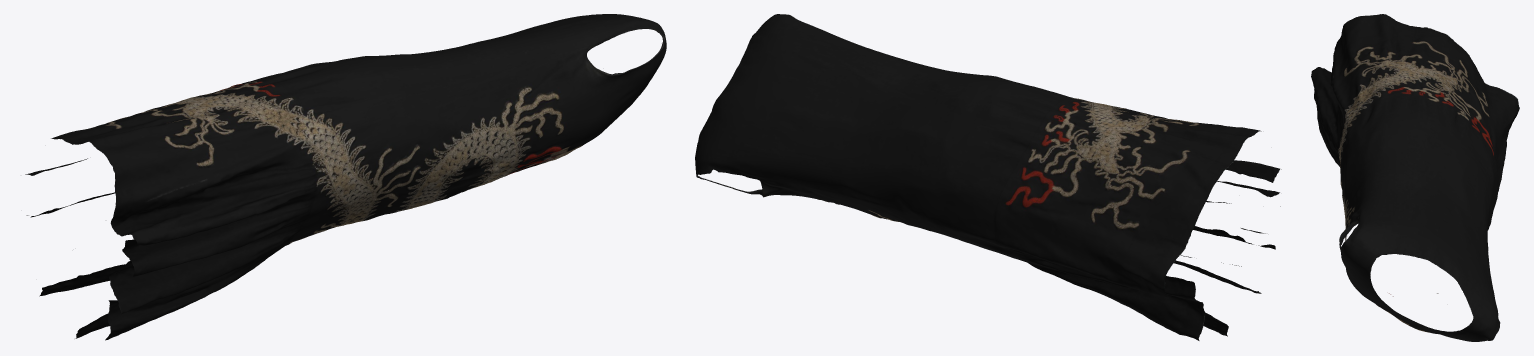
3 views of the same model, side by side, from view 1: azimuth 30°, elevation 25°; view 2: azimuth 150°, elevation 25°; view 3: azimuth 270°, elevation 25° (orthographic). The views are drawn at different scales.
Size of the model in its own units: 1.14 by 0.4045 by 0.4439.
Materials: 1 (1 with a texture image).
